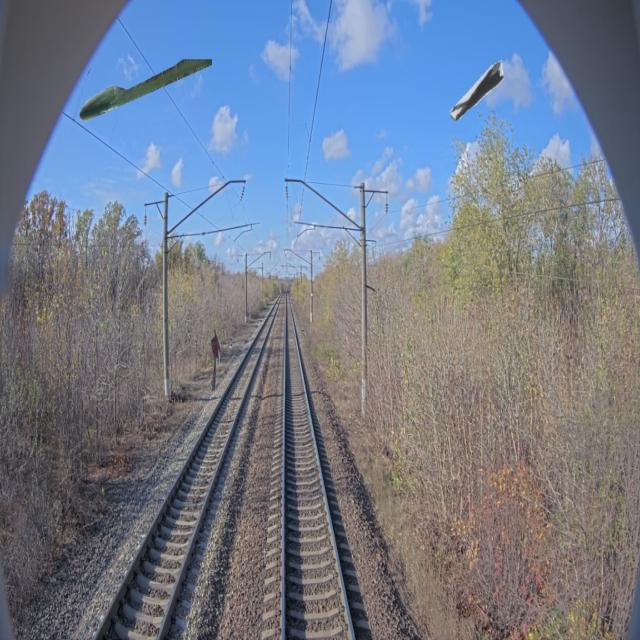floating object: (78, 60, 214, 124), (448, 63, 516, 120), (210, 326, 221, 391)
